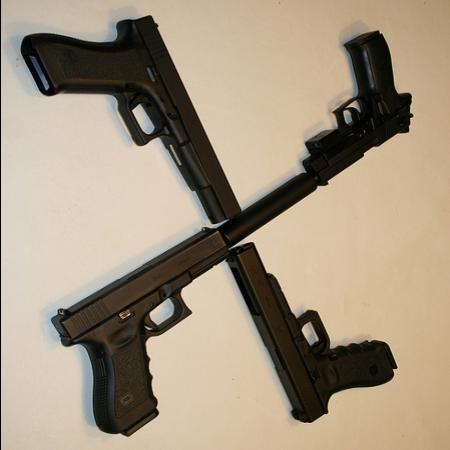Pistol: (20, 17, 242, 224), (53, 232, 232, 436), (226, 244, 398, 425), (294, 30, 414, 192)
